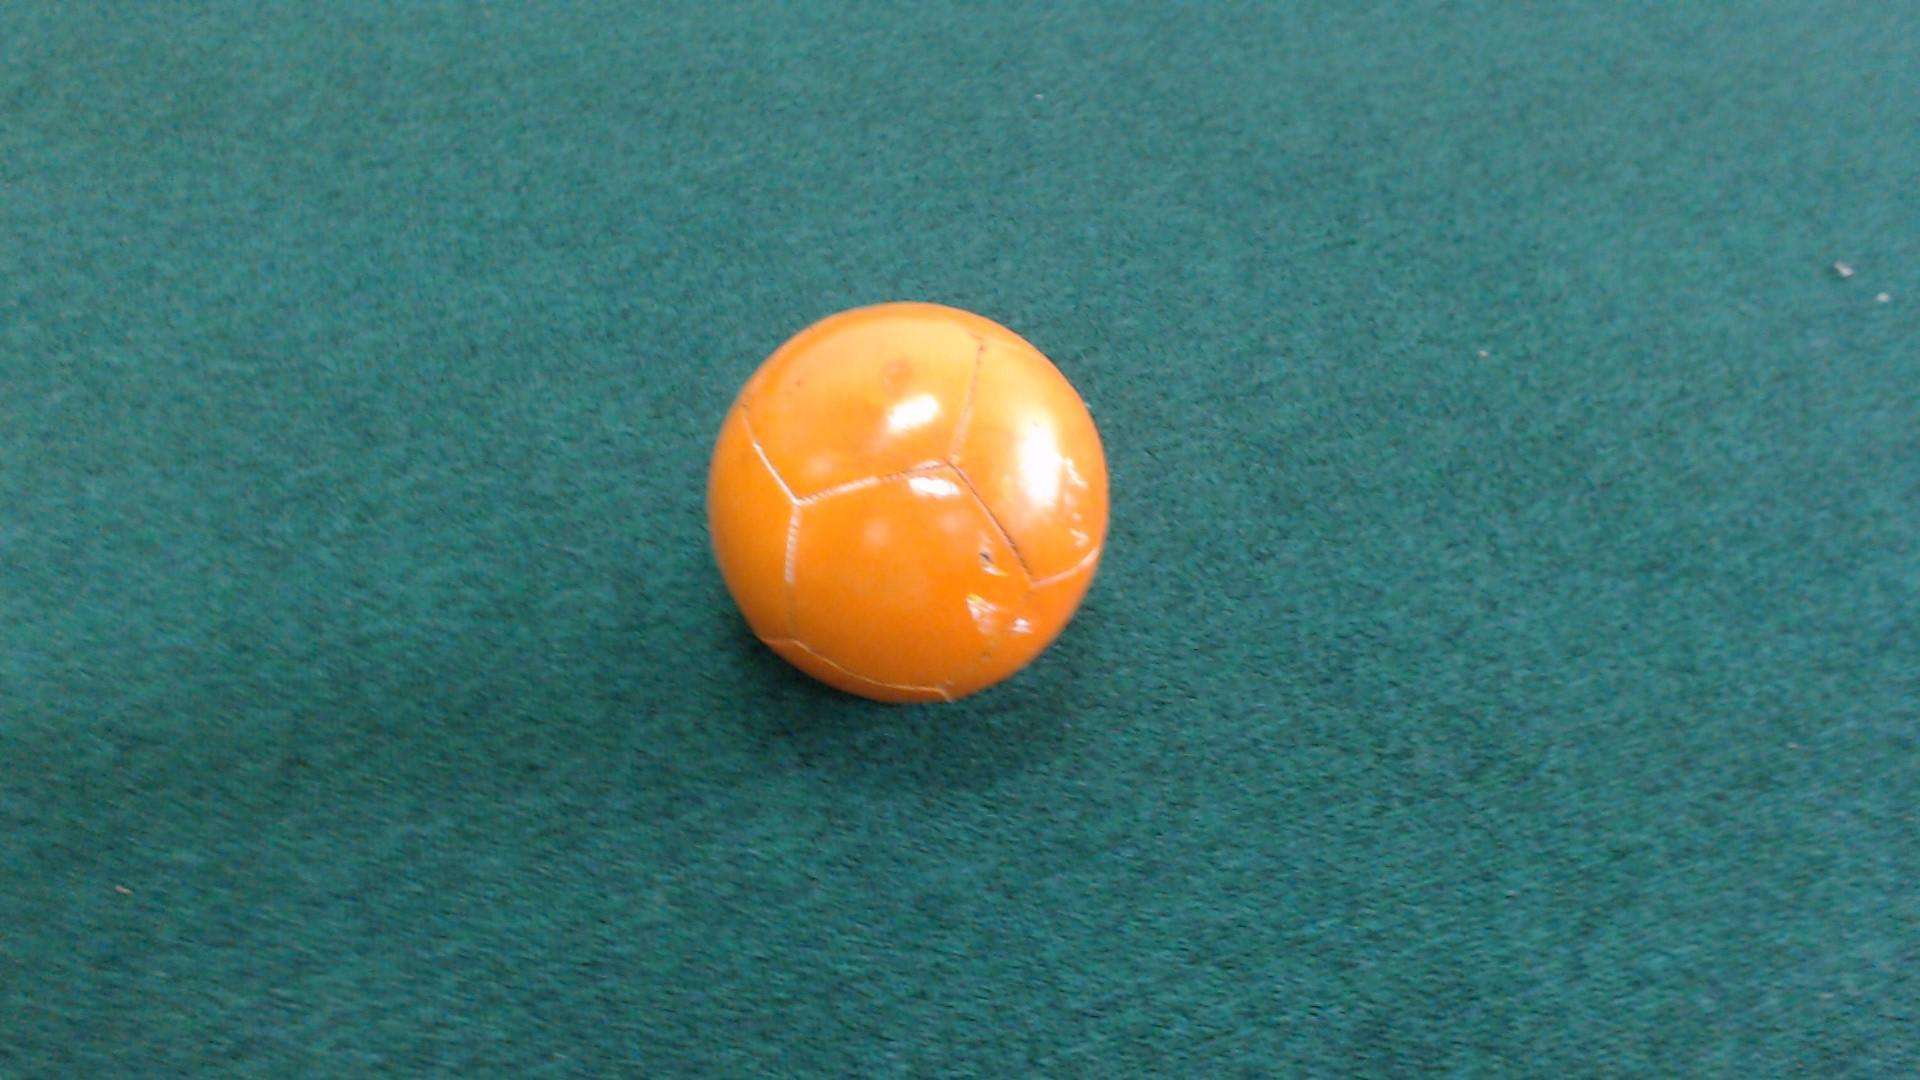bola: (692, 294, 1125, 715)
